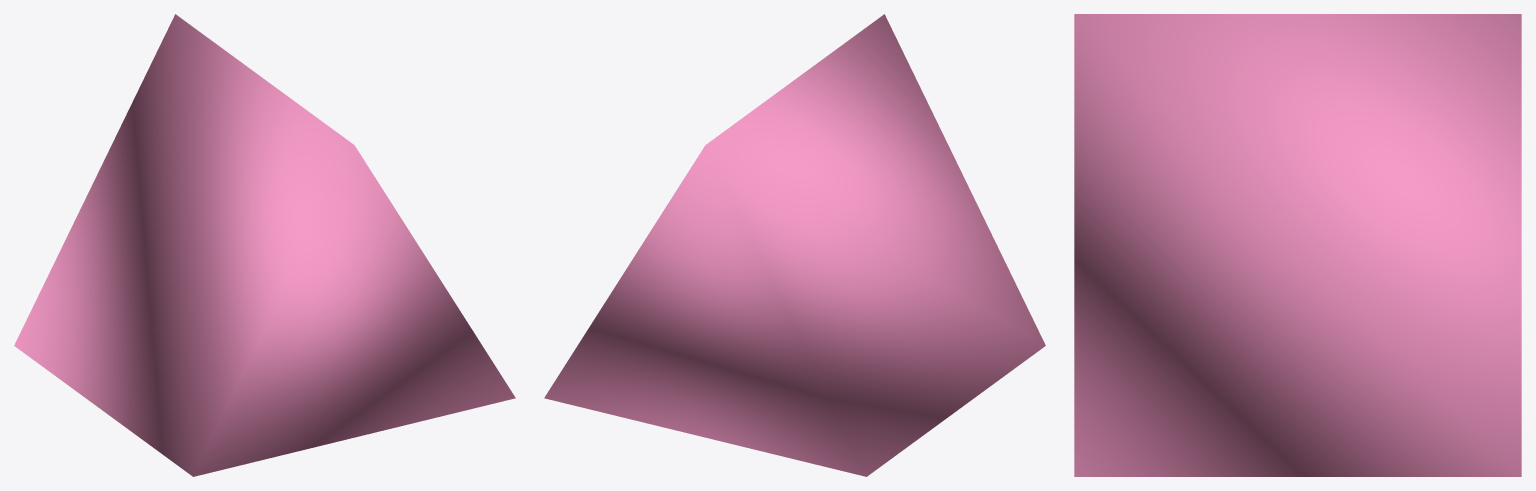
The model's file is prism.glb.
3 views of the same model, side by side, from view 1: azimuth 30°, elevation 25°; view 2: azimuth 150°, elevation 25°; view 3: azimuth 270°, elevation 25° (orthographic). The views are drawn at different scales.
Parts seen in each view (by area): view 1: TriangularPrism; view 2: TriangularPrism; view 3: TriangularPrism.
Boxes of the visible parts, x1=… form: TriangularPrism: x1=14, y1=14, x2=515, y2=476; TriangularPrism: x1=544, y1=14, x2=1045, y2=476; TriangularPrism: x1=1074, y1=14, x2=1521, y2=476.
Size of the model in its own units: 1.25 by 1.08 by 1.2.
